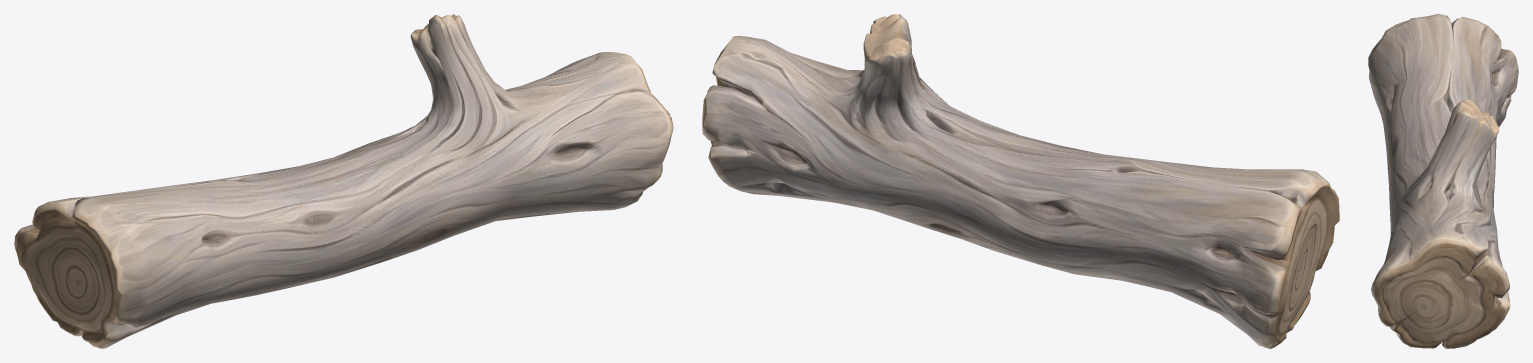
The model's file is driftwood.glb.
3 views of the same model, side by side, from view 1: azimuth 30°, elevation 25°; view 2: azimuth 150°, elevation 25°; view 3: azimuth 270°, elevation 25° (orthographic). The views are drawn at different scales.
Parts seen in each view (by area): view 1: Mesh_0; view 2: Mesh_0; view 3: Mesh_0.
Boxes of the visible parts, box(x1,y1,x2,y2) form: Mesh_0: box(14, 14, 673, 348); Mesh_0: box(702, 14, 1339, 348); Mesh_0: box(1368, 14, 1518, 348).
Size of the model in its own units: 1 by 0.3791 by 0.2556.
1 material, 1 textured.
